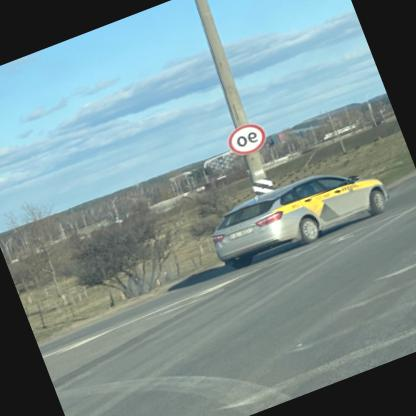speedlimit: (226, 117, 272, 157)
